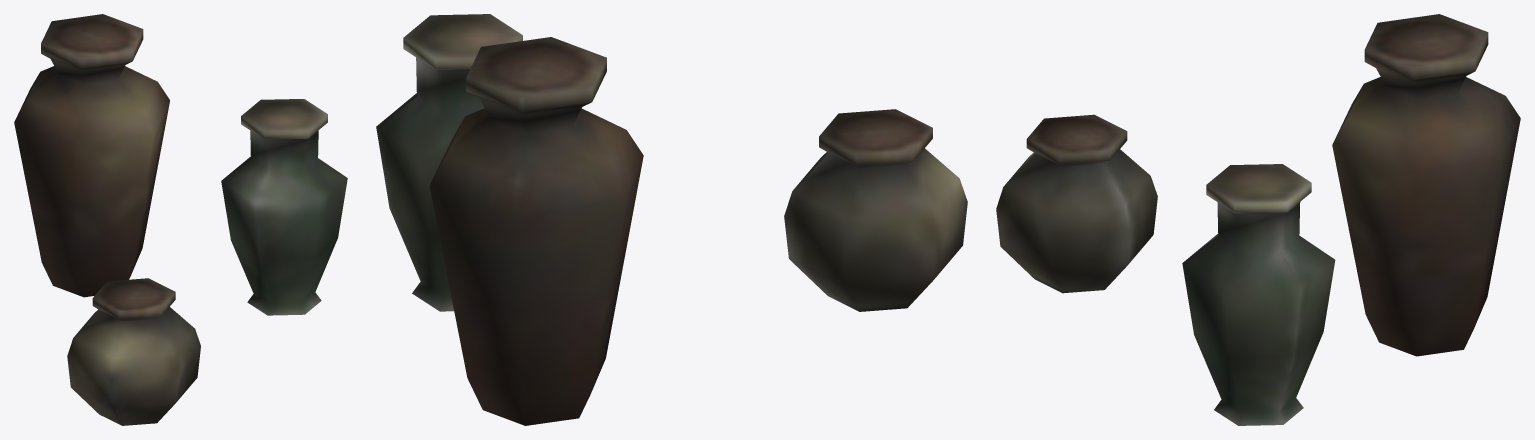
File: Map01_ZaWu_WaGuan.FBX
3 views of the same model, side by side, from view 1: azimuth 30°, elevation 25°; view 2: azimuth 150°, elevation 25°; view 3: azimuth 270°, elevation 25° (orthographic). The views are drawn at different scales.
Parts seen in each view (by area): view 1: Map01_ZaWu_WaGuan; view 2: Map01_ZaWu_WaGuan; view 3: Map01_ZaWu_WaGuan.
Part boxes in pixels (x1,y1,x2,y2): Map01_ZaWu_WaGuan: (14, 14, 347, 425); Map01_ZaWu_WaGuan: (376, 14, 967, 425); Map01_ZaWu_WaGuan: (996, 14, 1520, 425).
Size of the model in its own units: 156 by 111 by 178.
